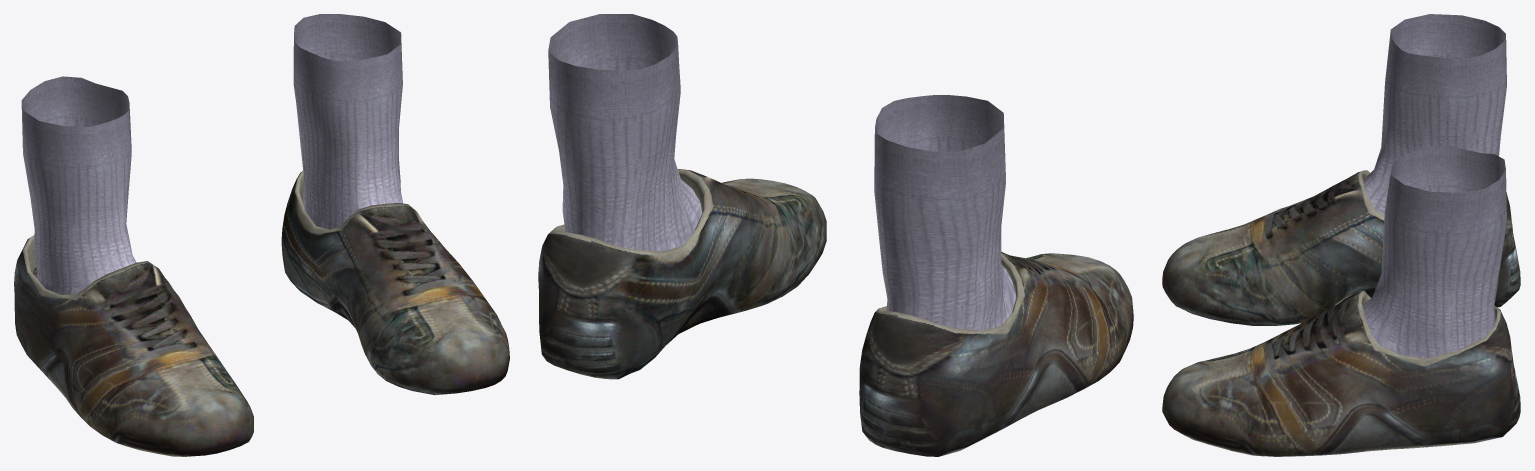
The model's file is shoes_grey_trainers.gltf.
The picture shows the model from 3 angles, left to right: view 1: azimuth 30°, elevation 25°; view 2: azimuth 150°, elevation 25°; view 3: azimuth 270°, elevation 25°; orthographic projection. The views are drawn at different scales.
Parts seen in each view (by area): view 1: shoes_grey_trainers; view 2: shoes_grey_trainers; view 3: shoes_grey_trainers.
Part boxes in pixels (x1,y1,x2,y2): shoes_grey_trainers: (14,14,509,456); shoes_grey_trainers: (538,14,1133,456); shoes_grey_trainers: (1162,14,1520,456).
Size of the model in its own units: 0.3604 by 0.2313 by 0.2794.
Materials: 1 (1 with a texture image).
